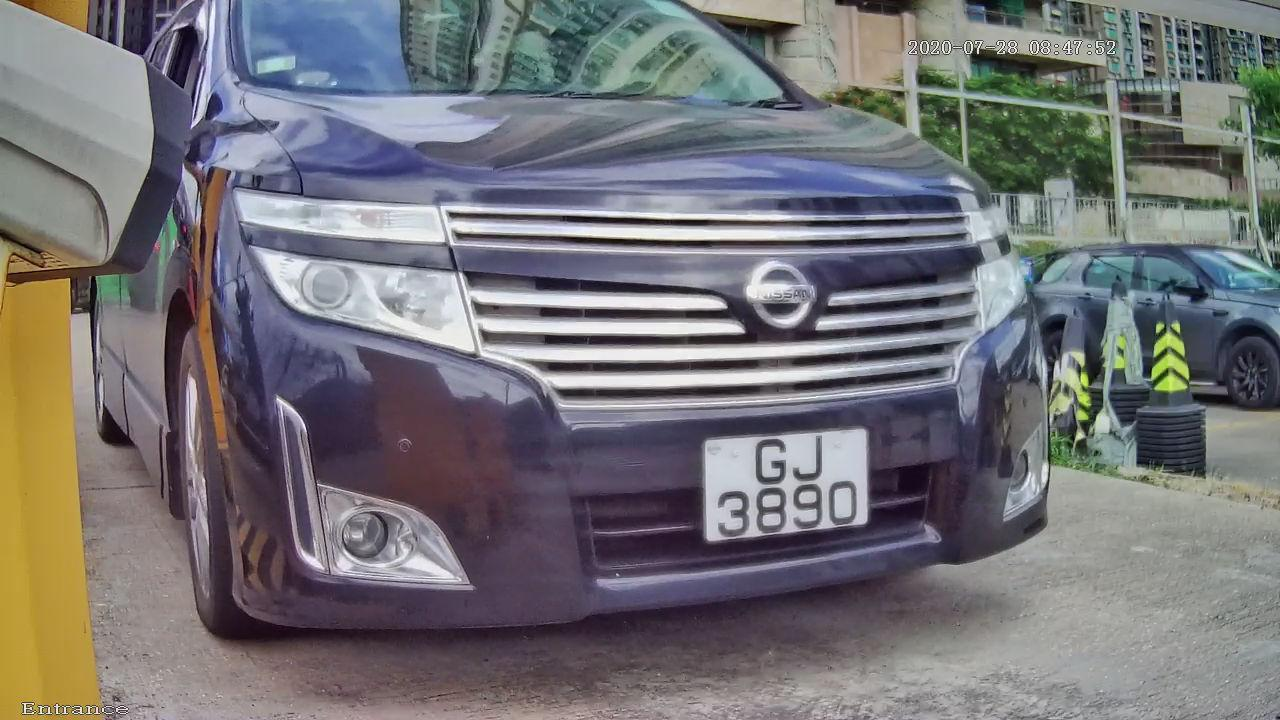privatecar: (29, 7, 1206, 682)
